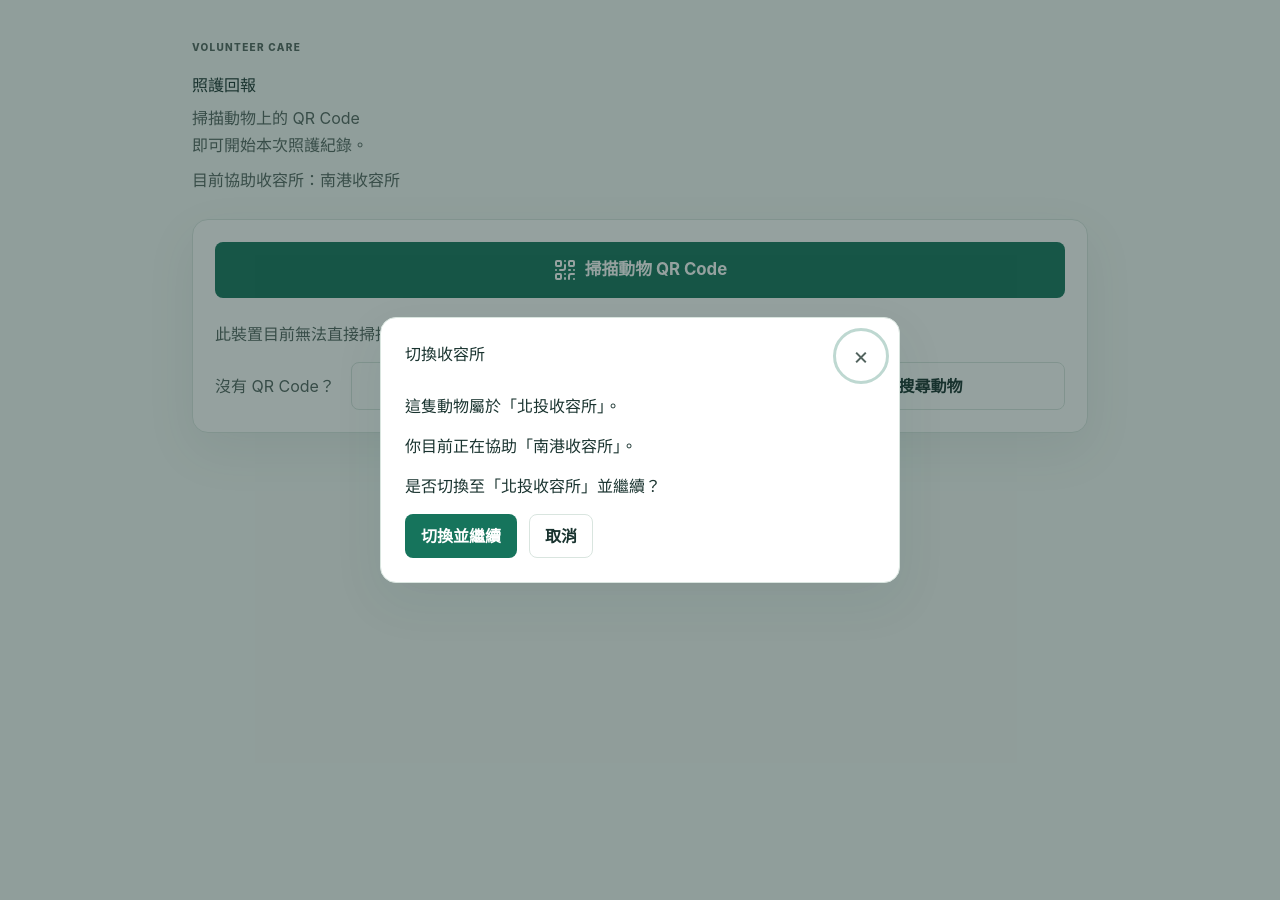
QR-first animal confirmation page › authorizes a foreign shelter before showing an explicit switch dialog and cancel preserves A
Expected: the dialog is shown, [380, 317, 900, 583]
Click the button "取消".
click(561, 536)  # box [529, 514, 593, 558]
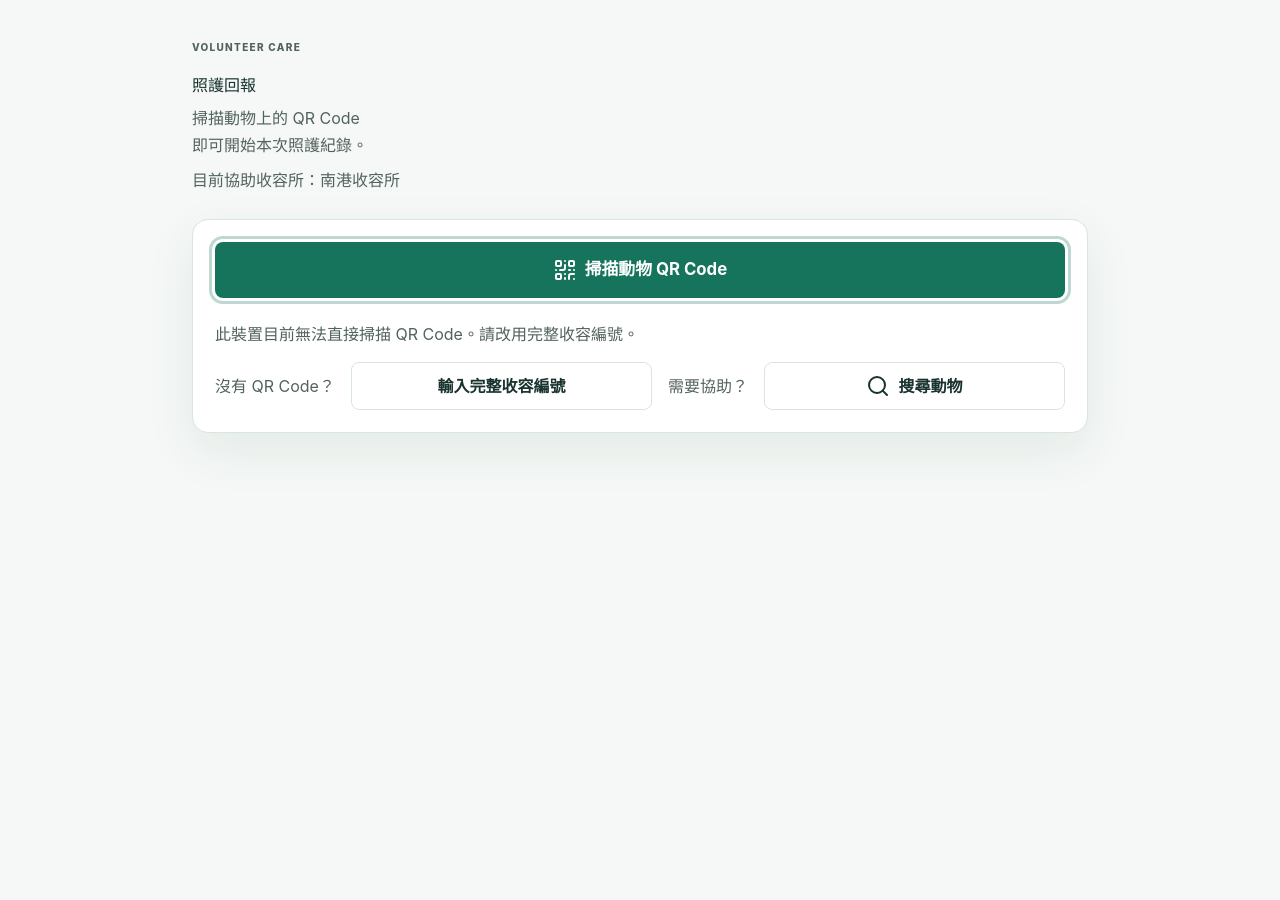
Expected: the text "目前協助收容所：南港收容所" is shown, [192, 170, 400, 190]
Expected: the dialog is gone
